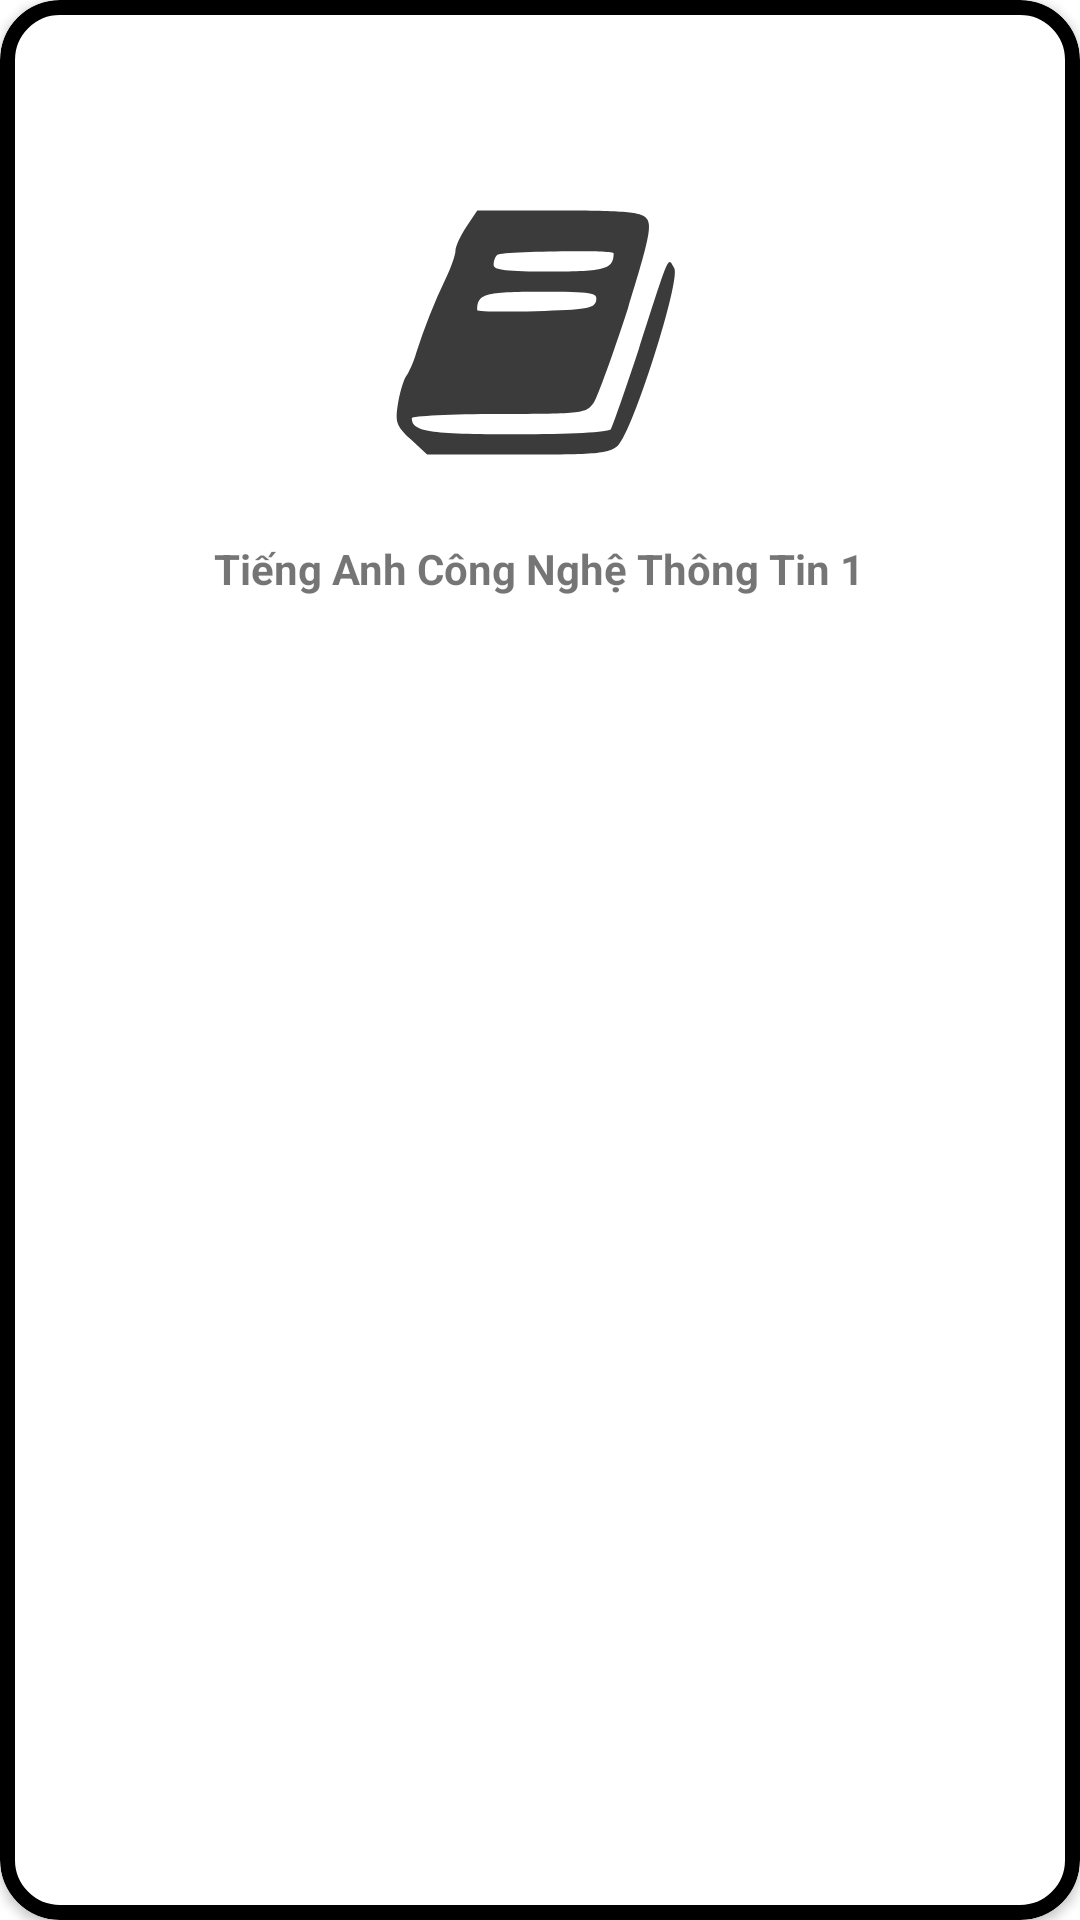

Icon click points for this 1080 x 1920 phone screenshot, format point (x, y):
book: point (535, 332)
